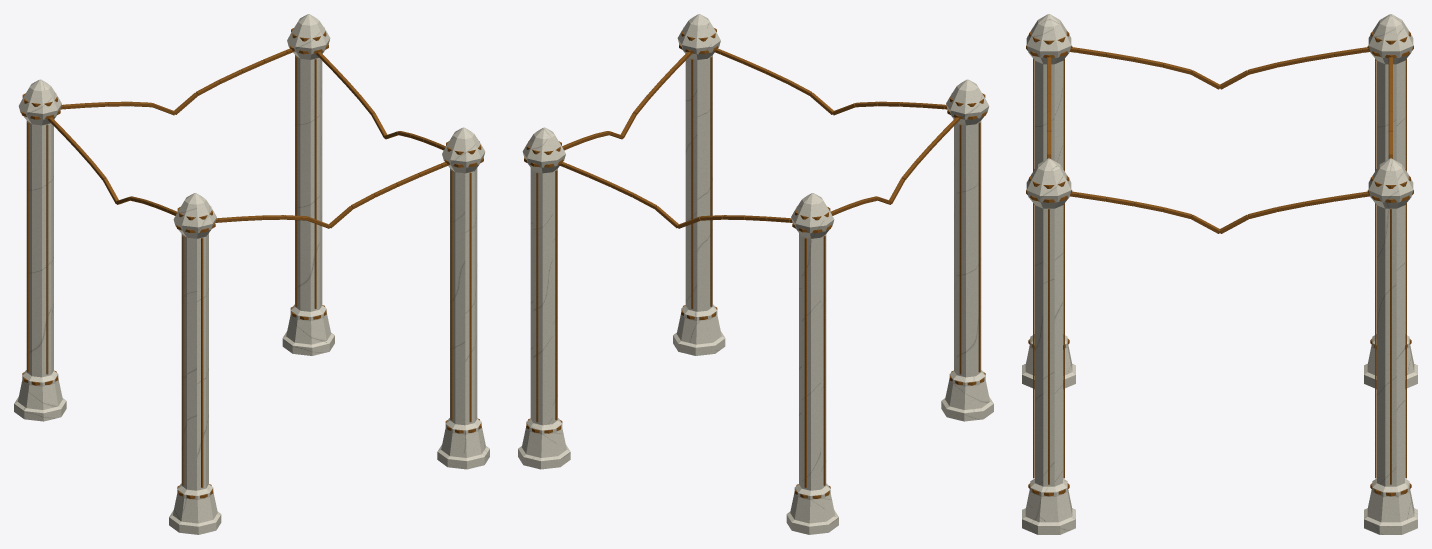
3 views of the same model, side by side, from view 1: azimuth 30°, elevation 25°; view 2: azimuth 150°, elevation 25°; view 3: azimuth 270°, elevation 25° (orthographic). The views are drawn at different scales.
Parts seen in each view (by area): view 1: Marble pier stepped octagonal facing.002, Marble pier stepped octagonal facing.001, Marble pier stepped octagonal facing.003, Marble pier stepped octagonal facing, Vertical bronze facing rail.001, Vertical bronze facing rail.007, Vertical bronze facing rail.003, Vertical bronze facing rail.005, Vertical bronze facing rail.009, Vertical bronze facing rail.011, Vertical bronze facing rail.013, Vertical bronze facing rail.015; view 2: Marble pier stepped octagonal facing.003, Marble pier stepped octagonal facing, Marble pier stepped octagonal facing.002, Marble pier stepped octagonal facing.001, Vertical bronze facing rail.002, Vertical bronze facing rail.005, Vertical bronze facing rail.001, Vertical bronze facing rail.006, Vertical bronze facing rail.013, Vertical bronze facing rail.014, Vertical bronze facing rail.009, Vertical bronze facing rail.010; view 3: Marble pier stepped octagonal facing.002, Marble pier stepped octagonal facing.003, Marble pier stepped octagonal facing, Marble pier stepped octagonal facing.001, Vertical bronze facing rail.008, Vertical bronze facing rail.012, Vertical bronze facing rail.010, Vertical bronze facing rail.011, Vertical bronze facing rail.014, Vertical bronze facing rail.015.
Part boxes in pixels (box(x1,y1,x2,y2)): Marble pier stepped octagonal facing.002: box(437, 127, 489, 469); Marble pier stepped octagonal facing.001: box(14, 79, 66, 421); Marble pier stepped octagonal facing.003: box(282, 14, 334, 355); Marble pier stepped octagonal facing: box(169, 193, 221, 534); Vertical bronze facing rail.001: box(182, 235, 184, 485); Vertical bronze facing rail.007: box(46, 124, 48, 374); Vertical bronze facing rail.003: box(201, 238, 203, 487); Vertical bronze facing rail.005: box(27, 122, 29, 372); Vertical bronze facing rail.009: box(450, 170, 452, 420); Vertical bronze facing rail.011: box(469, 172, 471, 422); Vertical bronze facing rail.013: box(295, 57, 297, 306); Vertical bronze facing rail.015: box(314, 59, 316, 308); Marble pier stepped octagonal facing.003: box(518, 127, 570, 469); Marble pier stepped octagonal facing: box(941, 79, 993, 421); Marble pier stepped octagonal facing.002: box(673, 14, 725, 355); Marble pier stepped octagonal facing.001: box(786, 193, 838, 534); Vertical bronze facing rail.002: box(959, 124, 961, 374); Vertical bronze facing rail.005: box(823, 235, 825, 485); Vertical bronze facing rail.001: box(978, 122, 980, 372); Vertical bronze facing rail.006: box(804, 238, 806, 487); Vertical bronze facing rail.013: box(555, 170, 557, 420); Vertical bronze facing rail.014: box(536, 172, 538, 422); Vertical bronze facing rail.009: box(710, 57, 712, 306); Vertical bronze facing rail.010: box(691, 59, 693, 308); Marble pier stepped octagonal facing.002: box(1022, 158, 1075, 534); Marble pier stepped octagonal facing.003: box(1364, 158, 1417, 534); Marble pier stepped octagonal facing: box(1022, 14, 1075, 388); Marble pier stepped octagonal facing.001: box(1364, 14, 1417, 388); Vertical bronze facing rail.008: box(1048, 209, 1049, 484); Vertical bronze facing rail.012: box(1390, 209, 1391, 484); Vertical bronze facing rail.010: box(1063, 203, 1064, 478); Vertical bronze facing rail.011: box(1033, 203, 1034, 478); Vertical bronze facing rail.014: box(1405, 203, 1406, 478); Vertical bronze facing rail.015: box(1375, 203, 1376, 478).
Bounding box in the file's own units: 3.94 × 4 × 3.94.
Materials: 3 (3 with a texture image).
